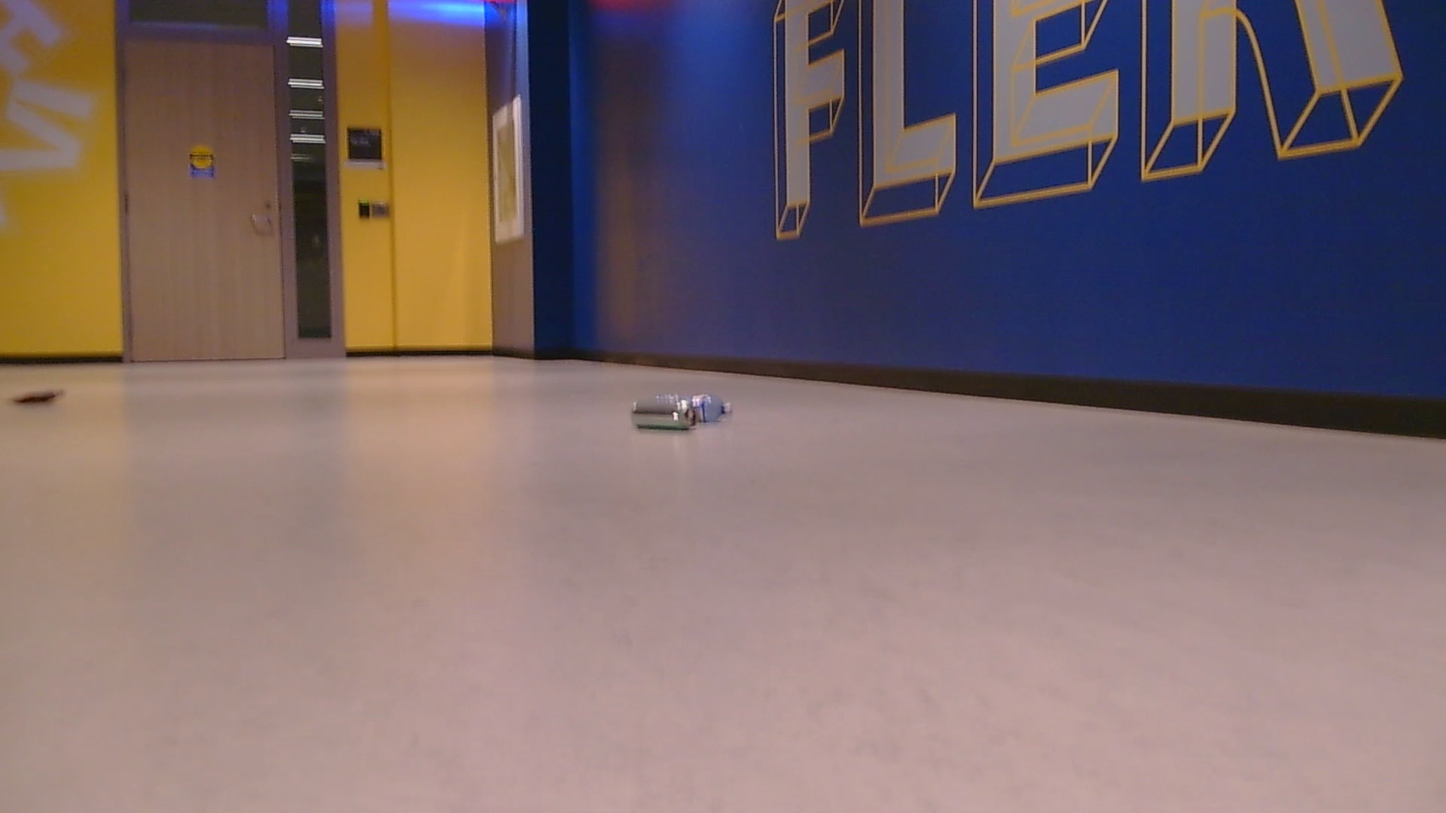can: (630, 382, 736, 431), (0, 379, 66, 409)
